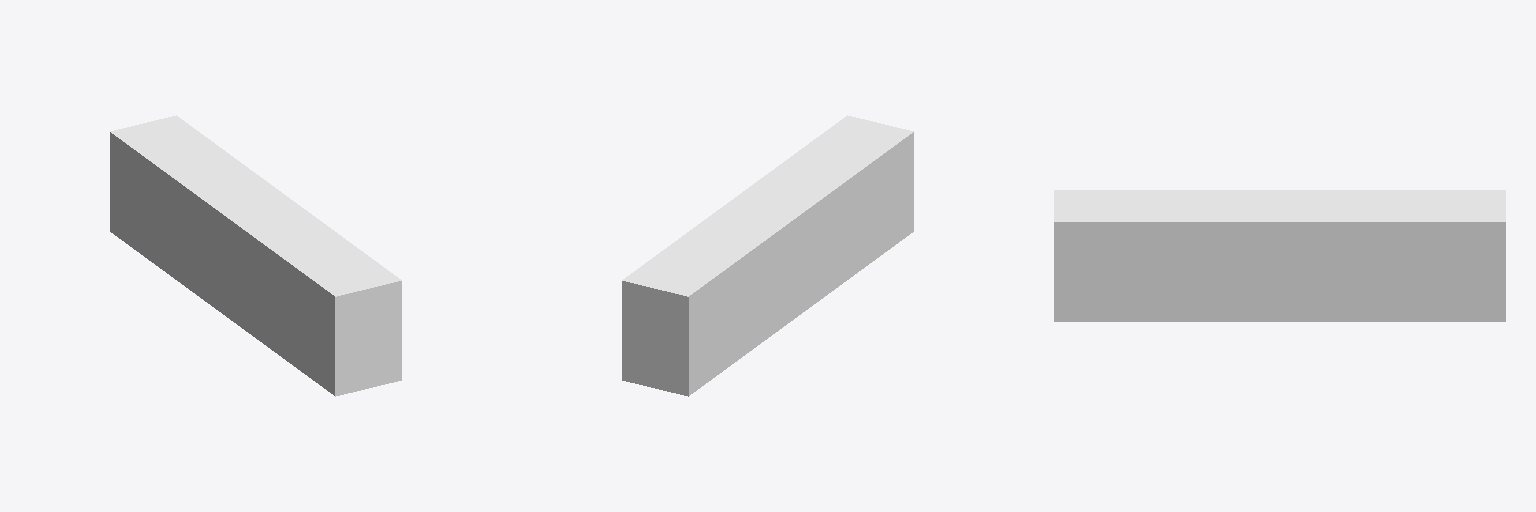
Rendered from SAMU_obj.obj.
3 renders of one model, left to right at view 1: azimuth 30°, elevation 25°; view 2: azimuth 150°, elevation 25°; view 3: azimuth 270°, elevation 25°, orthographic.
Visible parts, largest first — view 1: grp1; view 2: grp1; view 3: grp1.
Part boxes in pixels (x1,y1,x2,y2): grp1: (110,115,401,396); grp1: (622,115,913,396); grp1: (1054,190,1505,321).
Size of the model in its own units: 70000 by 100000 by 410000.